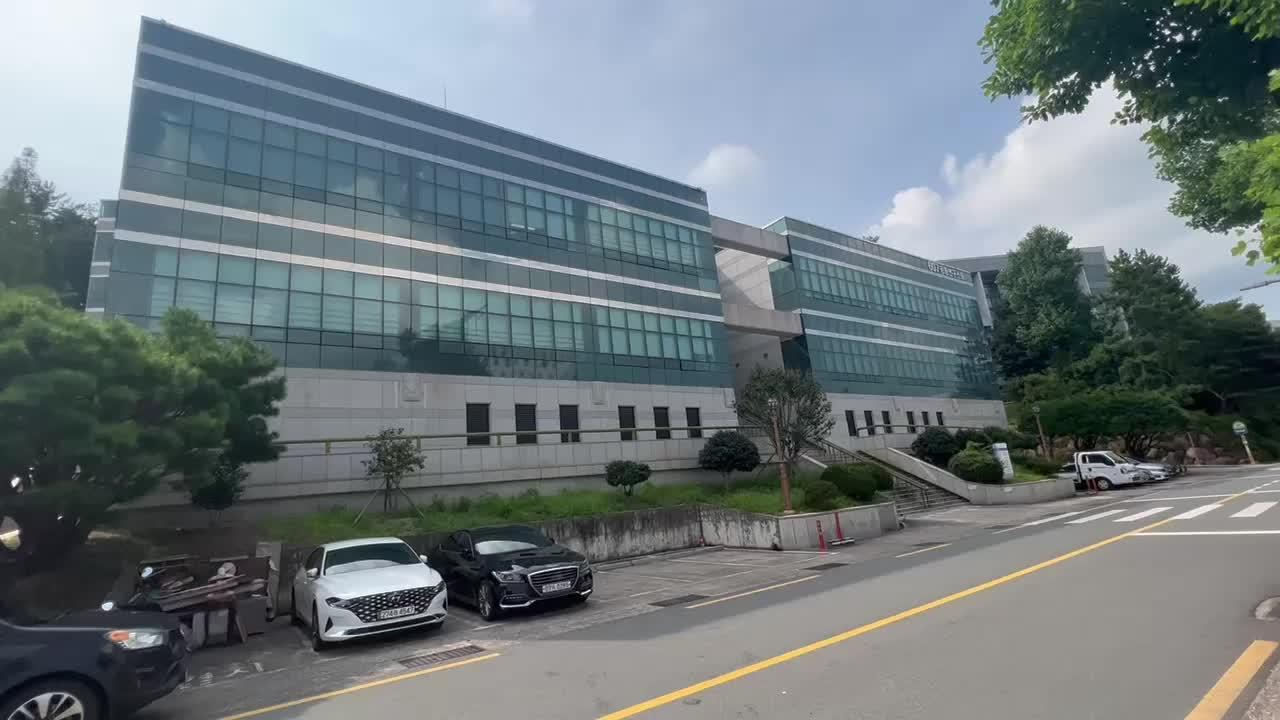building: (112, 48, 1008, 437)
